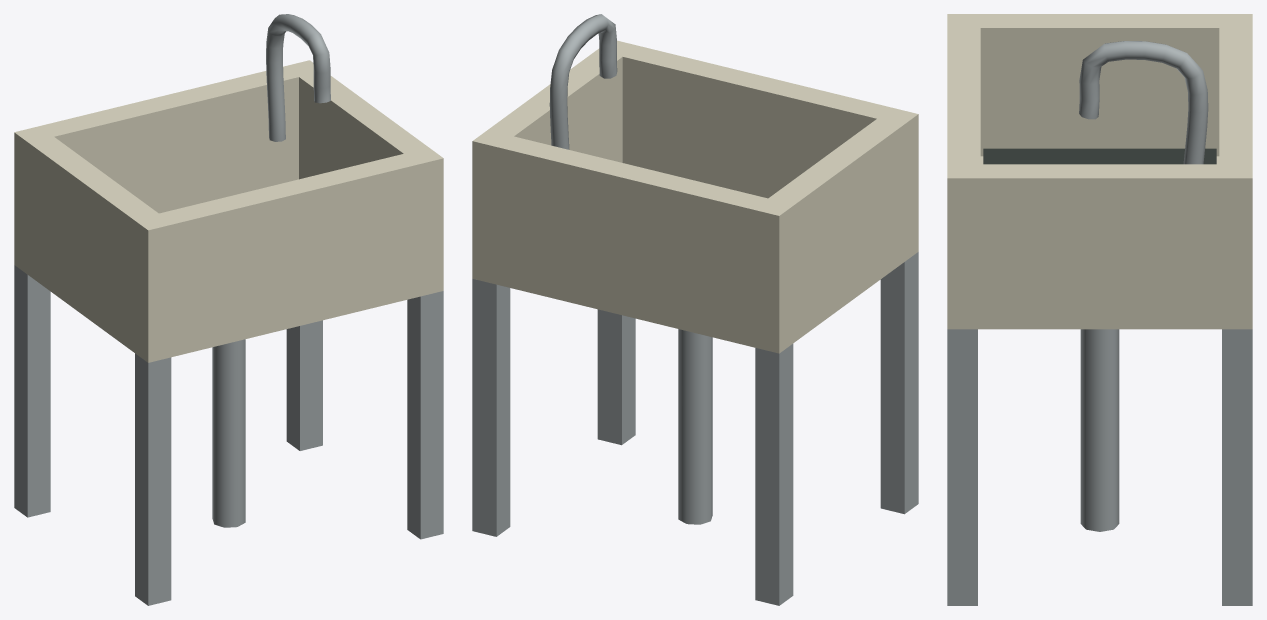
Rendered from suburban-outbreak-interiors-utility-wash-sink-388c7aa5__19993.glb.
3 renders of one model, left to right at view 1: azimuth 30°, elevation 25°; view 2: azimuth 150°, elevation 25°; view 3: azimuth 270°, elevation 25°, orthographic. The views are drawn at different scales.
Parts seen in each view (by area): view 1: utility-wash-sink; view 2: utility-wash-sink; view 3: utility-wash-sink.
Part boxes in pixels (bbox=[...]): utility-wash-sink: bbox=[14, 14, 443, 605]; utility-wash-sink: bbox=[472, 14, 918, 605]; utility-wash-sink: bbox=[947, 14, 1252, 605].
Bounding box in the file's own units: 0.7 × 1.06 × 0.55.
